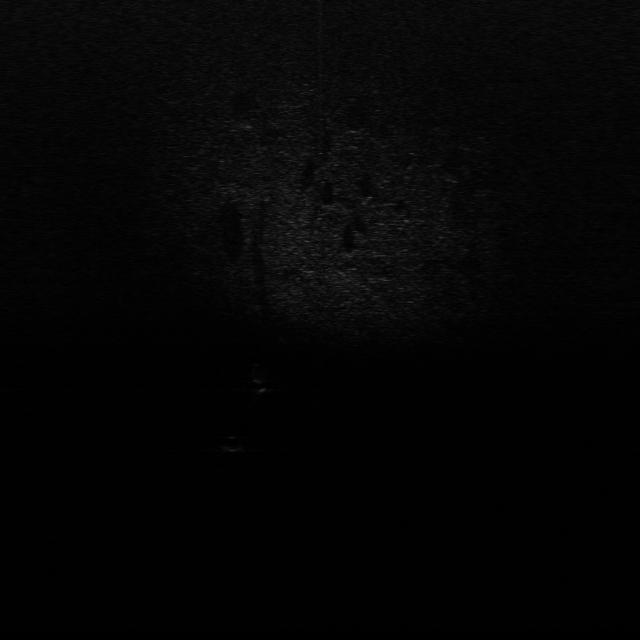ball: (220, 432, 246, 452)
human body: (250, 358, 274, 406)
